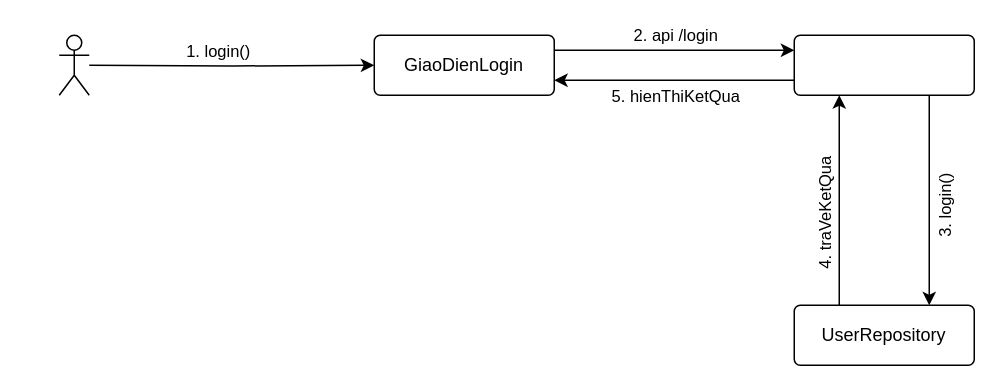
Image size: 1001x392. Some labels were removed from this diagram. The centre of each missing label's shape, as x and y in pixels:
Người dùng: the point at 73,64
UserController: the point at 883,64
